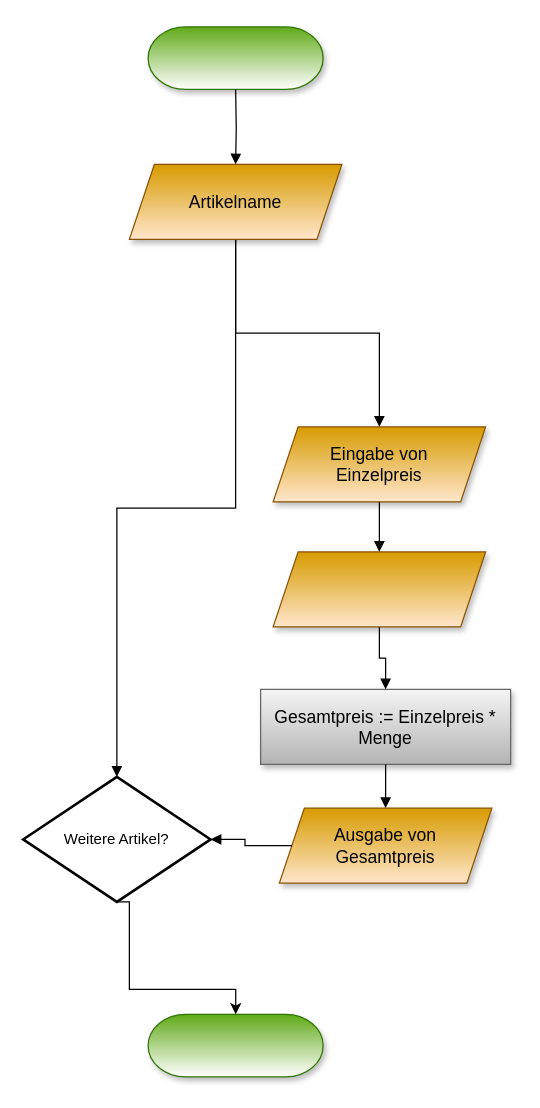
The diagram is 540 pixels wide and 1108 high, and some of its shapes have lost their labels. Each missing label, with the centre of its shape:
"Eingabe von Menge" belongs at point 380,591.
"Start" belongs at point 236,59.
"Stop" belongs at point 236,1047.
